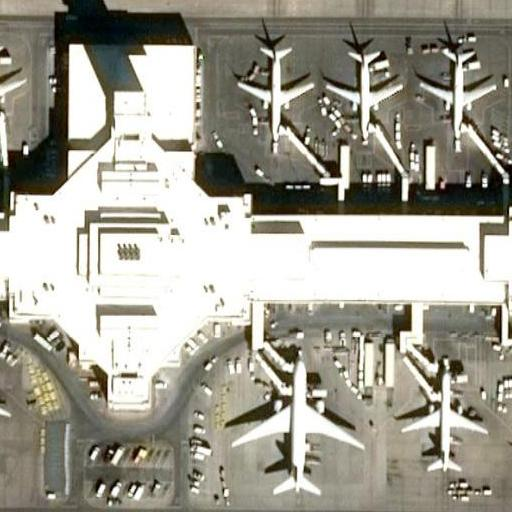Aircraft: (223, 349, 365, 497), (395, 363, 493, 474), (231, 24, 311, 145), (322, 36, 407, 140), (421, 30, 501, 140), (0, 33, 28, 127), (0, 339, 12, 461)
